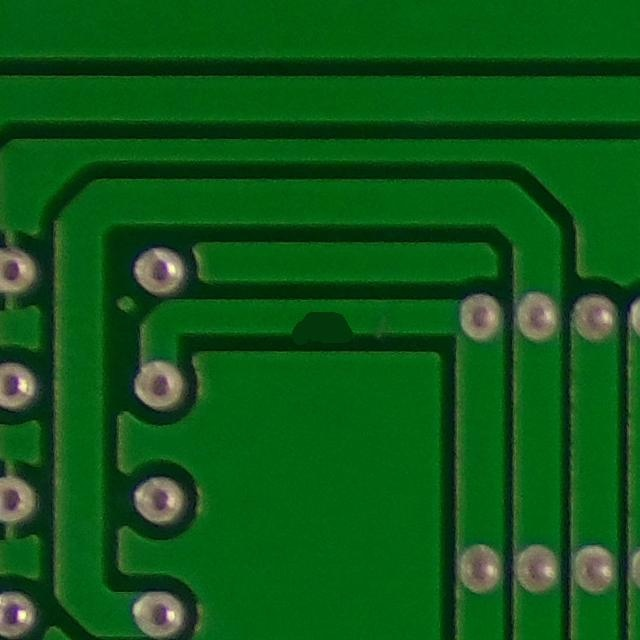mouse_bite: (269, 286, 371, 355)
